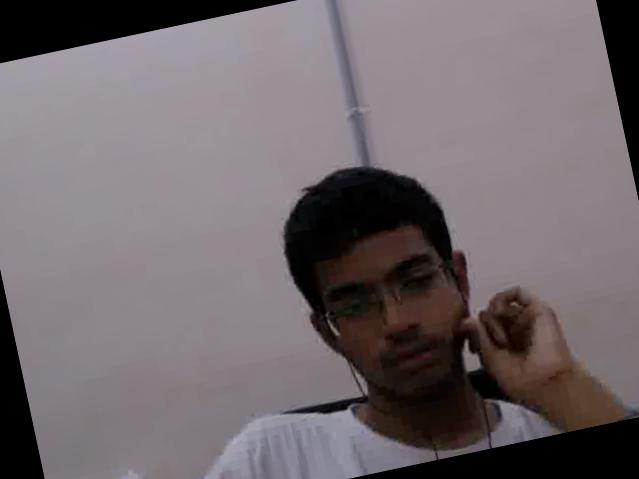bingung: (307, 214, 477, 407)
